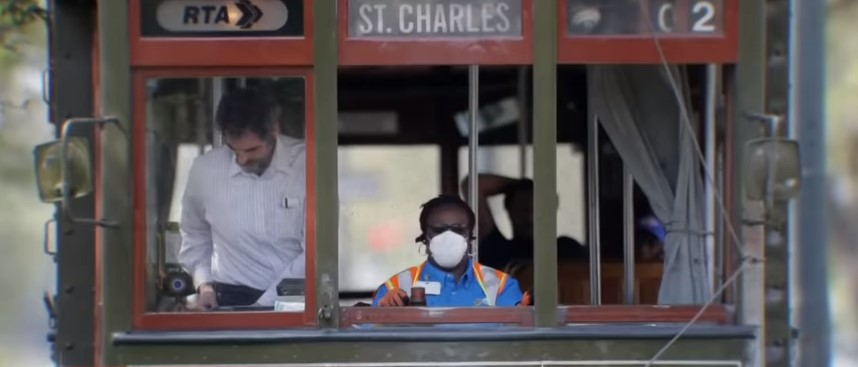face_no_mask: (214, 88, 280, 177)
face_with_mask: (417, 194, 478, 275)
